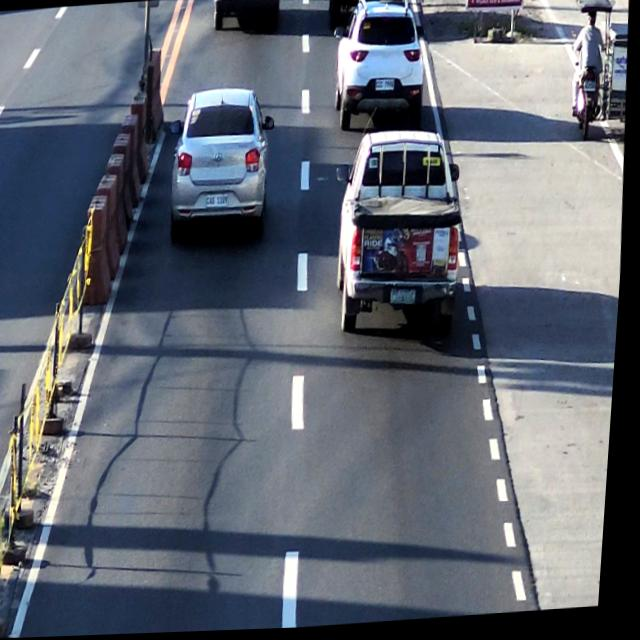Car: (332, 126, 473, 348), (172, 90, 274, 235), (327, 0, 430, 128)
License-Plate: (393, 289, 424, 311), (209, 193, 232, 210), (375, 79, 396, 96), (583, 80, 599, 97)
Tricycle: (566, 0, 634, 146)
